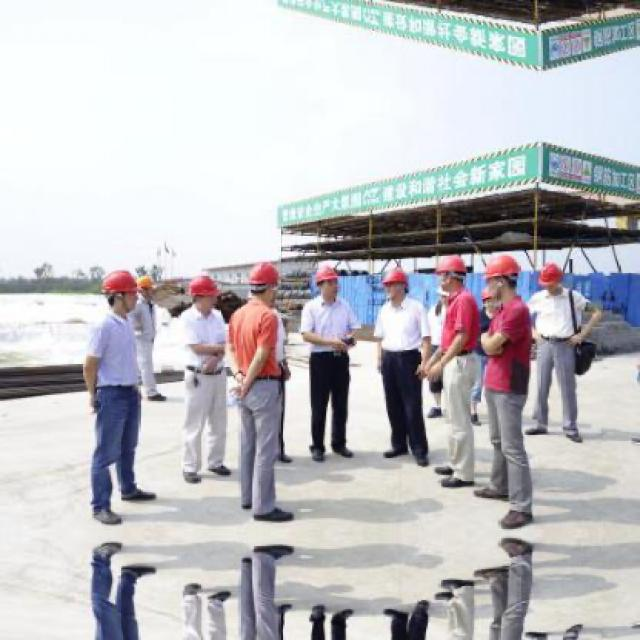helmet: (478, 254, 522, 306), (103, 268, 142, 318), (251, 259, 283, 305), (435, 253, 471, 293), (186, 272, 219, 312), (382, 262, 411, 304), (538, 259, 568, 296), (313, 261, 342, 299), (135, 273, 157, 305)
